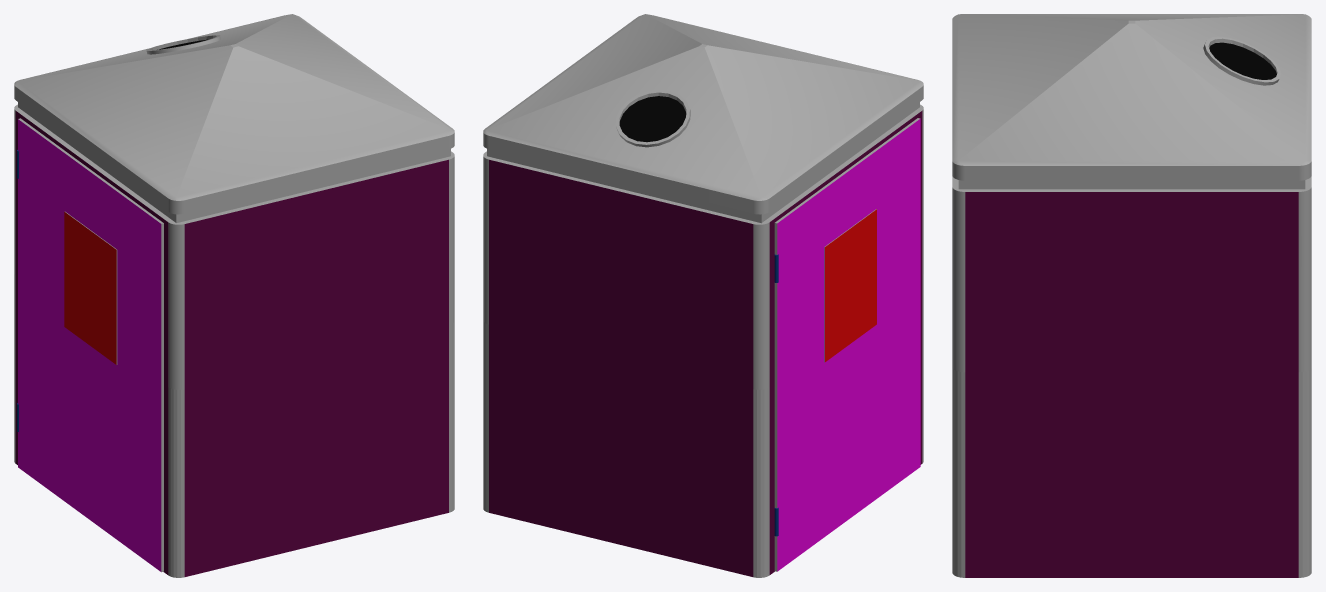
File: bin1.fbx
3 renders of one model, left to right at view 1: azimuth 30°, elevation 25°; view 2: azimuth 150°, elevation 25°; view 3: azimuth 270°, elevation 25°, orthographic. The views are drawn at different scales.
Visible parts, largest first — view 1: bin1; view 2: bin1; view 3: bin1.
Boxes of the visible parts, <box> form: bin1: <box>14,14,454,577</box>; bin1: <box>483,14,923,577</box>; bin1: <box>952,14,1311,577</box>.
Bounding box in the file's own units: 112 × 163 × 111.
